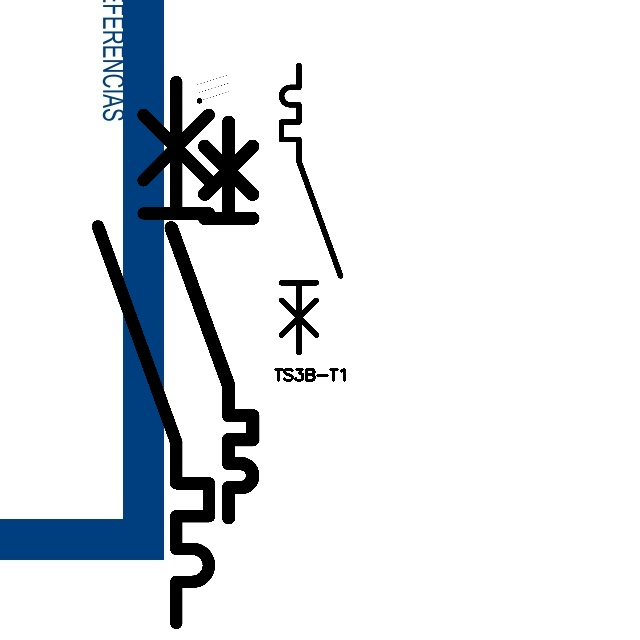interruptor_termomagnetico: (84, 68, 223, 637), (161, 112, 263, 528), (274, 58, 348, 360)
